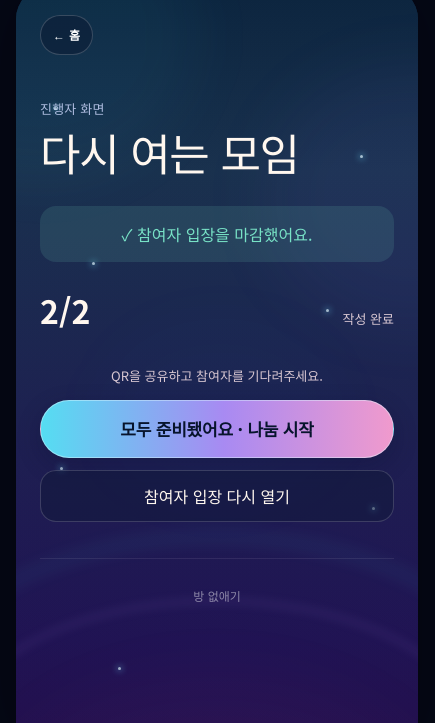
it: 익명 자기소개 나눔 › 마감한 참여자 입장을 다시 열 수 있다
Click the button "참여자 입장 다시 열기": [217, 496] box [40, 470, 394, 522]
(page scrolled)
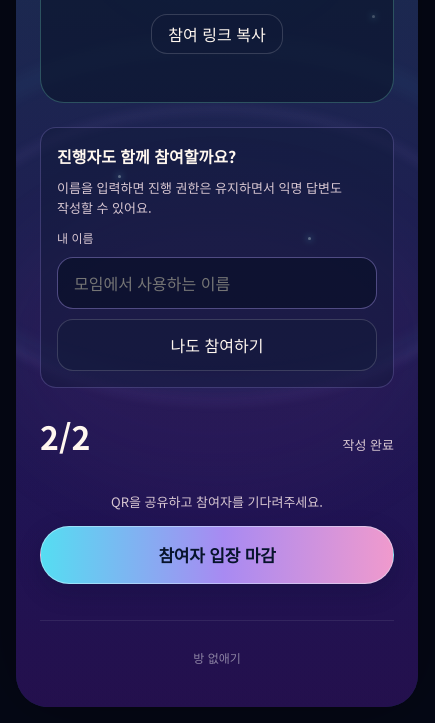
Expected: the button "참여자 입장 마감" is shown, [40, 526, 394, 584]
